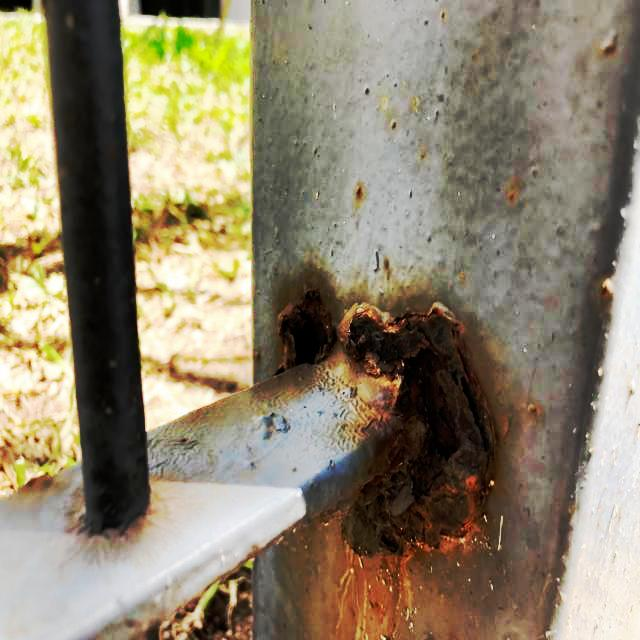Corrosion: (267, 289, 501, 560)
